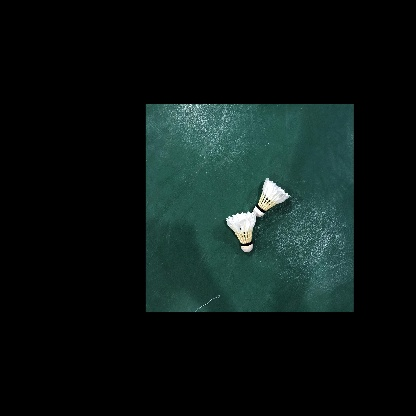ball_single: (253, 177, 291, 217), (226, 211, 256, 252)
